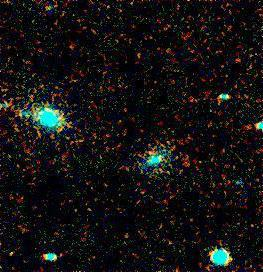star: (0, 239, 26, 269)
